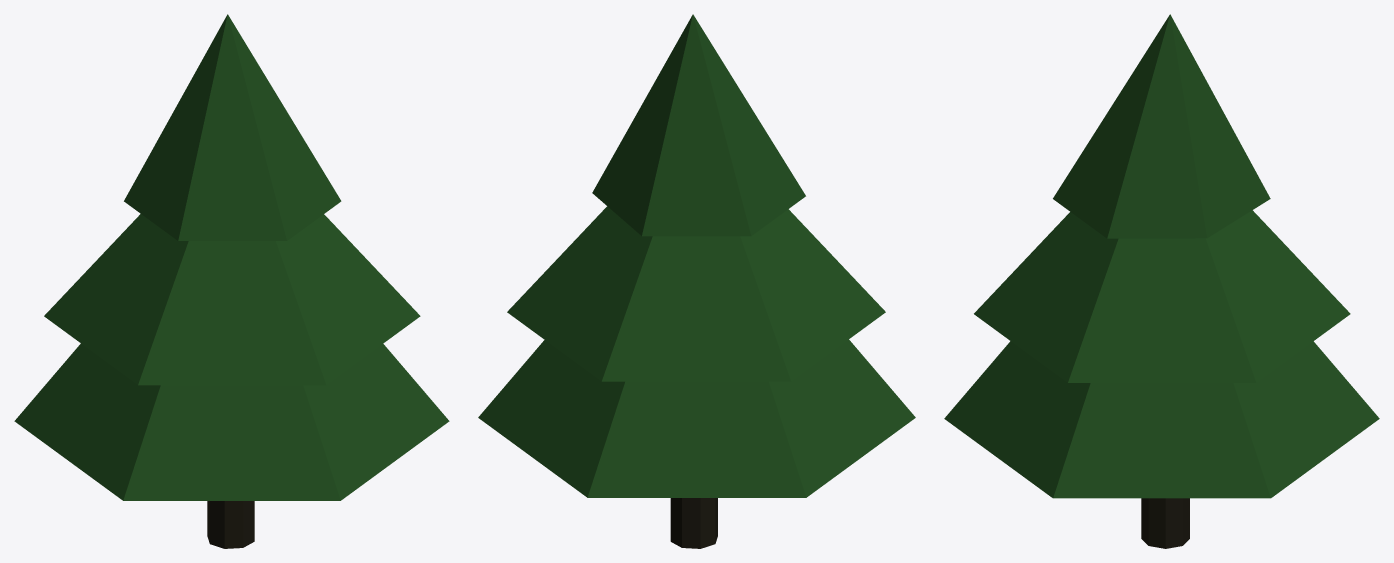
Rendered from Pino.fbx.
The picture shows the model from 3 angles, left to right: view 1: azimuth 30°, elevation 25°; view 2: azimuth 150°, elevation 25°; view 3: azimuth 270°, elevation 25°; orthographic projection.
Parts seen in each view (by area): view 1: abete; view 2: abete; view 3: abete.
Boxes of the visible parts, x1,y1,x2,y2 form: abete: (14,14,449,548); abete: (478,14,915,548); abete: (944,14,1379,548).
Size of the model in its own units: 507 by 777 by 586.
Materials: 1 (1 with a texture image).
